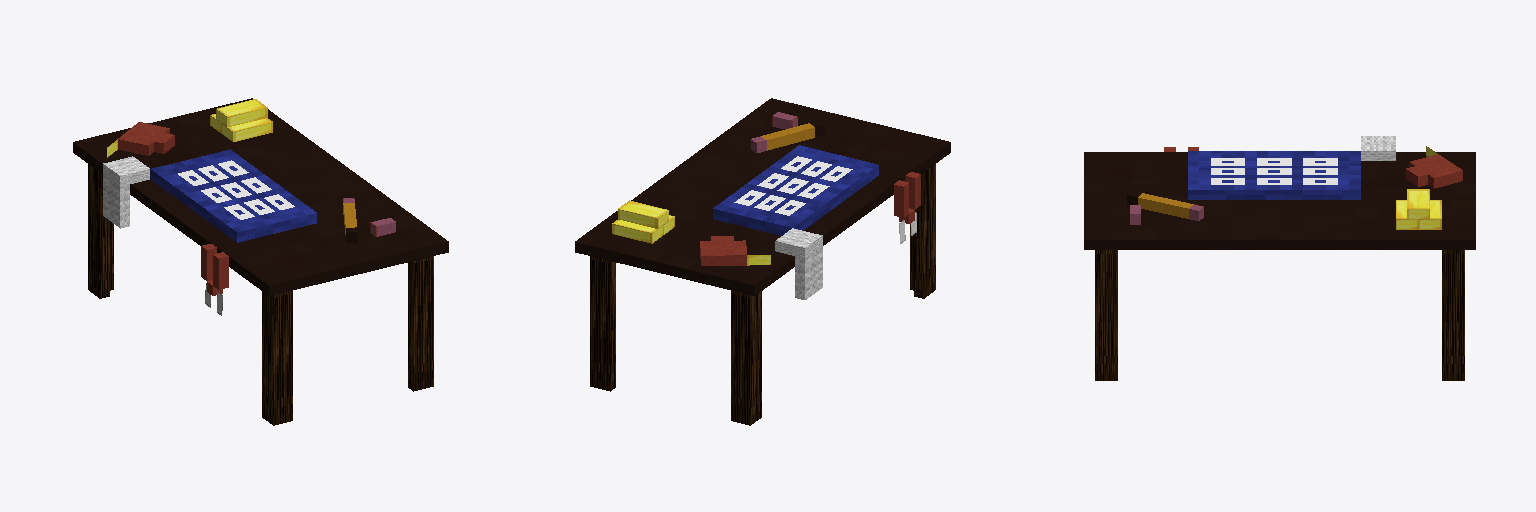
3 views of the same model, side by side, from view 1: azimuth 30°, elevation 25°; view 2: azimuth 150°, elevation 25°; view 3: azimuth 270°, elevation 25° (orthographic).
Parts seen in each view (by area): view 1: cube; view 2: cube; view 3: cube.
Part boxes in pixels (x1,y1,x2,y2): cube: (73, 98, 448, 425); cube: (575, 98, 950, 425); cube: (1084, 136, 1475, 380).
Size of the model in its own units: 1.19 by 1 by 2.12.
2 materials, 1 textured.